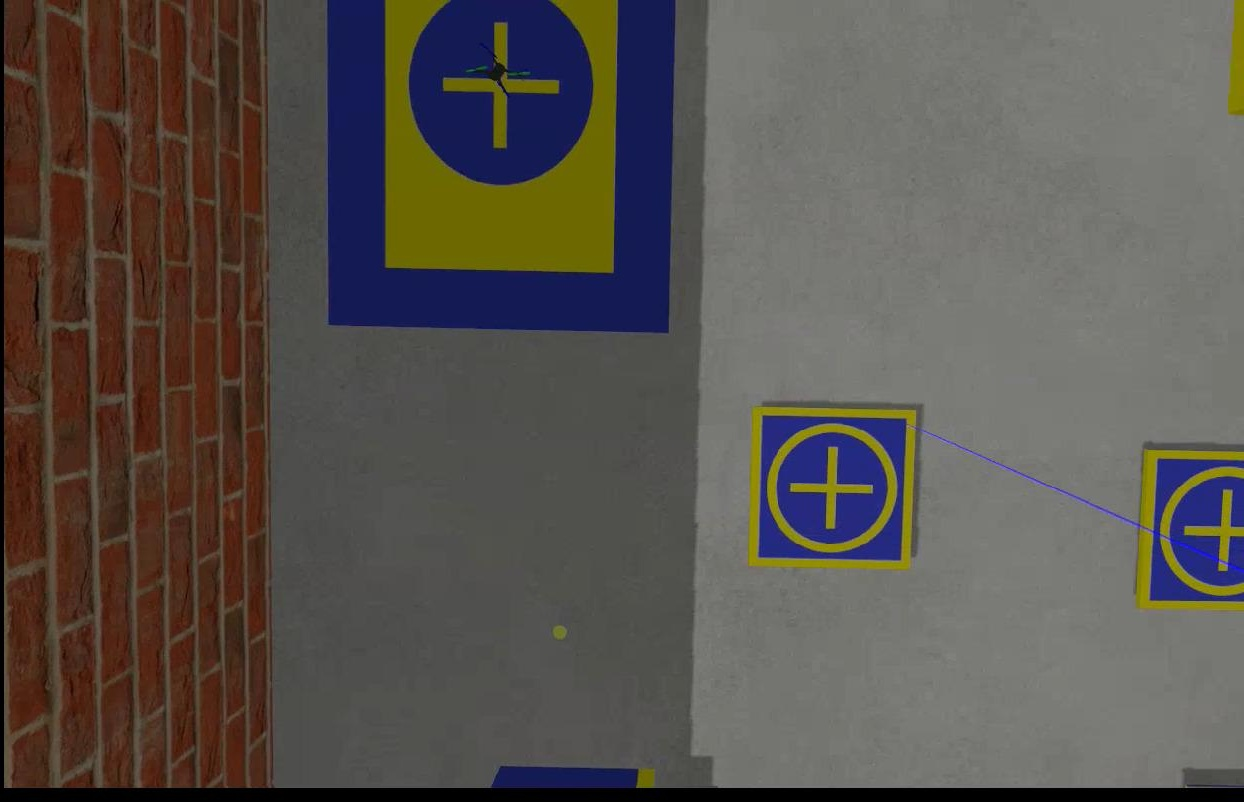large_base: (324, 1, 675, 335)
small_base: (744, 409, 917, 573), (1131, 446, 1242, 614)
